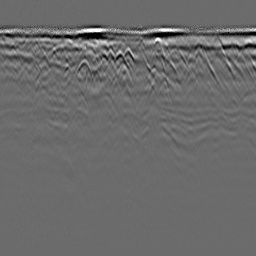cavity: (123, 45, 134, 62)
